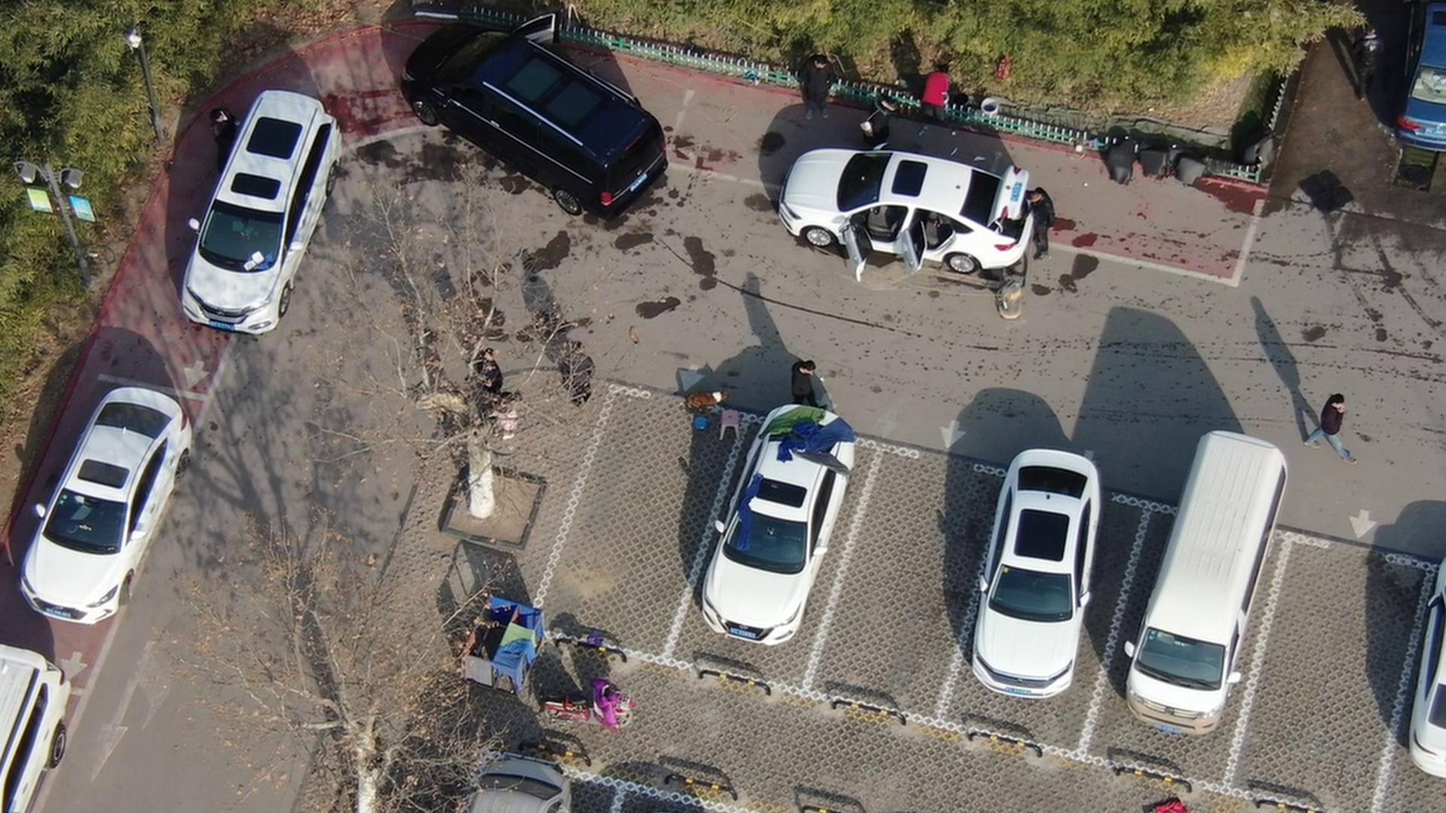class_2: (478, 342, 532, 425)
human: (1353, 21, 1392, 105), (807, 38, 847, 118), (1027, 184, 1068, 262), (1306, 391, 1353, 459), (926, 56, 964, 125), (566, 340, 599, 411), (871, 85, 910, 138), (792, 355, 825, 413), (218, 106, 246, 172)
